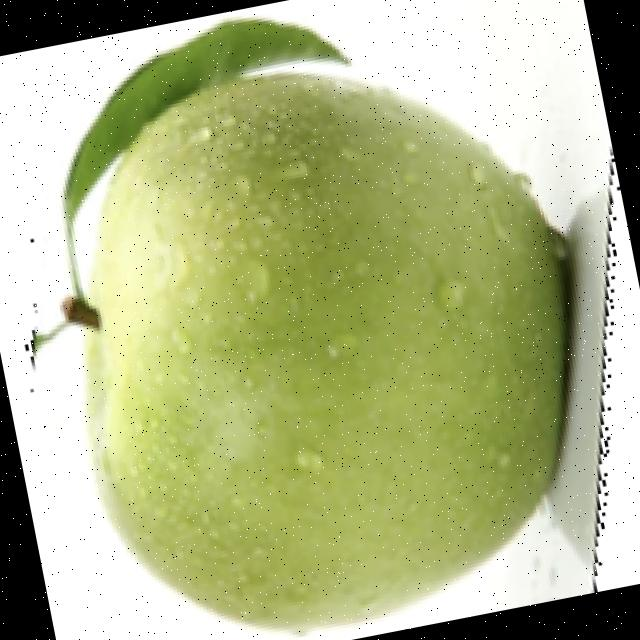apple: (21, 12, 618, 639)
